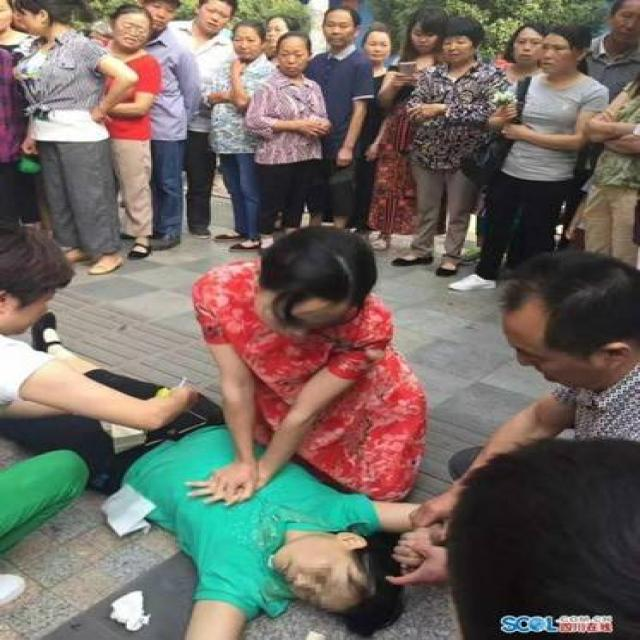10-: (0, 0, 638, 626)
down: (5, 307, 453, 639)
